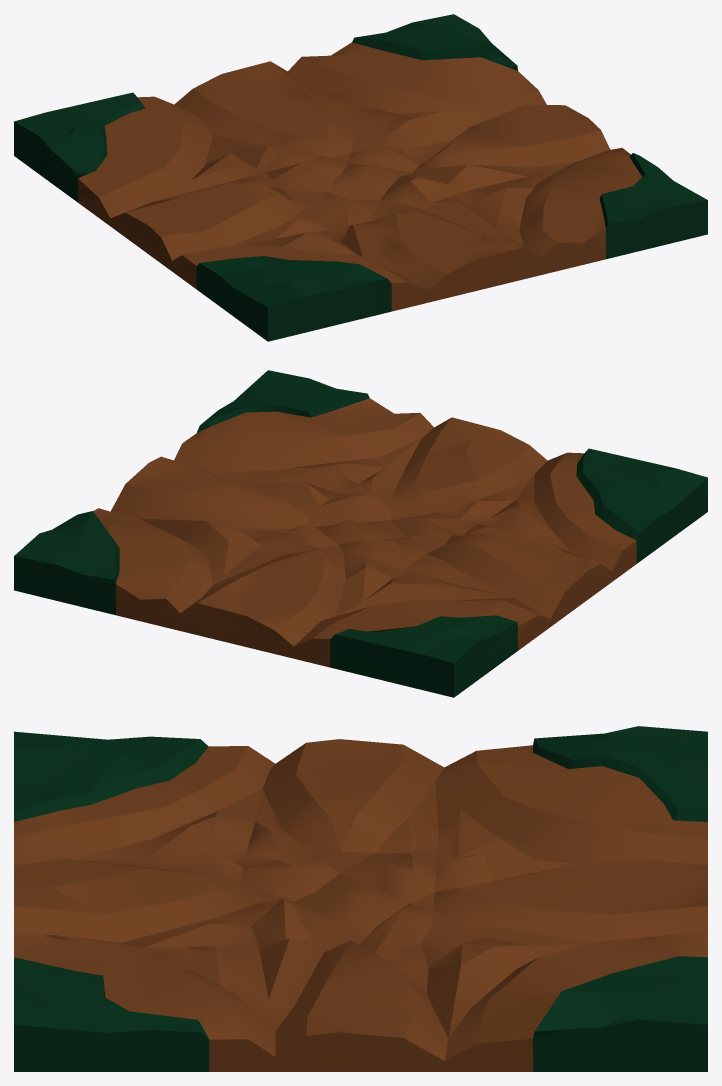
Rendered from Ground_Road_Crossroads_1.fbx.
3 views of the same model, one above another, from view 1: azimuth 30°, elevation 25°; view 2: azimuth 150°, elevation 25°; view 3: azimuth 270°, elevation 25° (orthographic). The views are drawn at different scales.
Parts seen in each view (by area): view 1: Ground_Road_Crossroads_1; view 2: Ground_Road_Crossroads_1; view 3: Ground_Road_Crossroads_1.
Boxes of the visible parts, x1,y1,x2,y2 form: Ground_Road_Crossroads_1: (14,14,707,341); Ground_Road_Crossroads_1: (14,370,707,697); Ground_Road_Crossroads_1: (14,726,707,1071).
Size of the model in its own units: 147 by 14.83 by 147.
